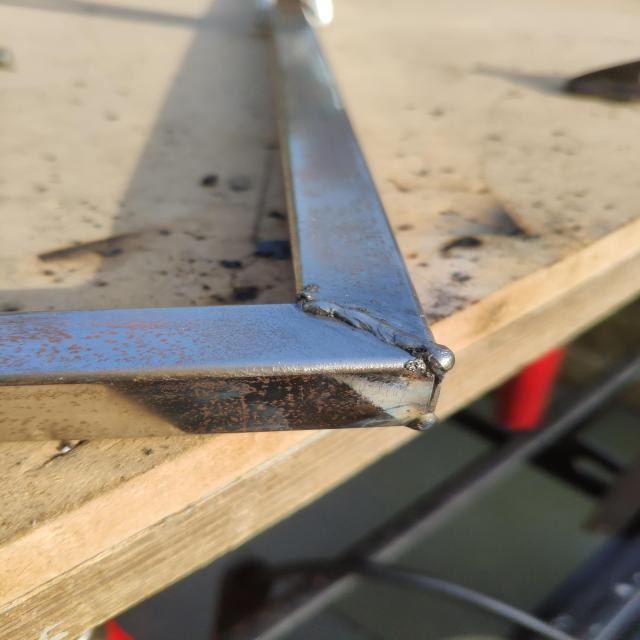Good Welding: (303, 300, 454, 396)
